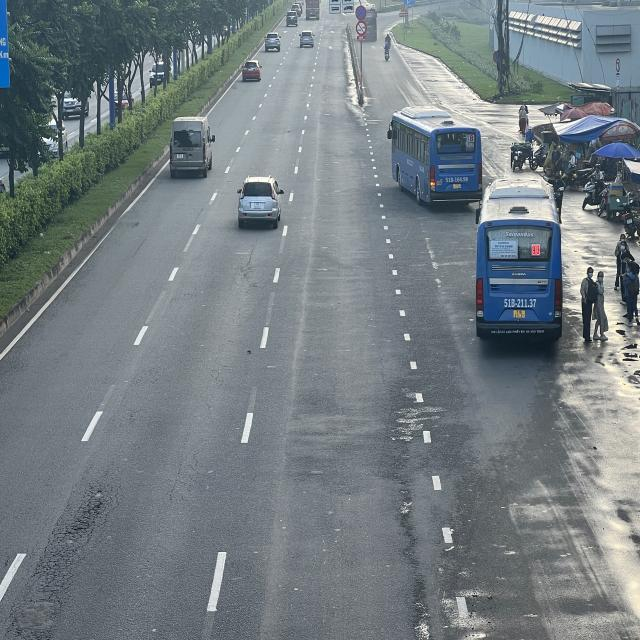car: (239, 177, 286, 228)
coach: (479, 177, 565, 344), (387, 106, 481, 206)
van: (170, 116, 217, 178)
